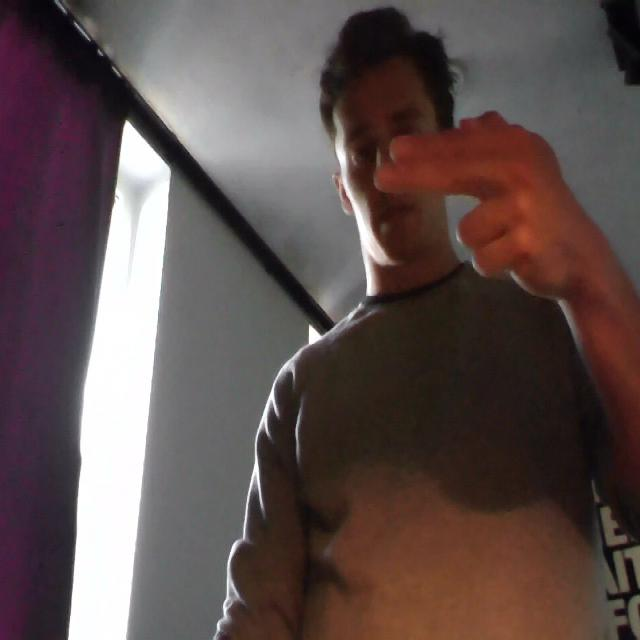left: (370, 100, 595, 299)
